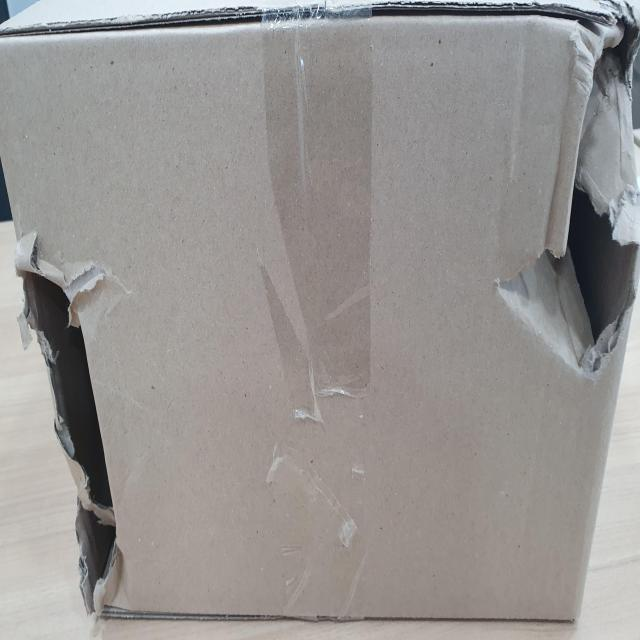damaged: (490, 5, 640, 371), (21, 252, 124, 616)
